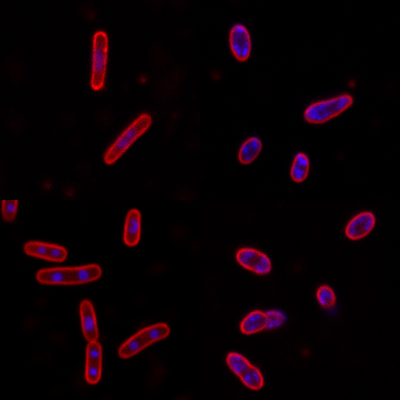CAM: (117, 322, 171, 361), (78, 299, 102, 384), (34, 262, 102, 287), (23, 241, 67, 262), (121, 207, 143, 248)
MP265: (224, 351, 264, 391), (233, 246, 272, 275), (343, 211, 375, 242)
Mecillinam: (303, 93, 352, 125), (228, 24, 252, 62), (236, 136, 263, 164), (289, 151, 311, 183)
Nalidixate: (101, 113, 153, 166), (89, 29, 108, 91)
Oblique: (238, 309, 289, 335), (316, 284, 337, 314)
